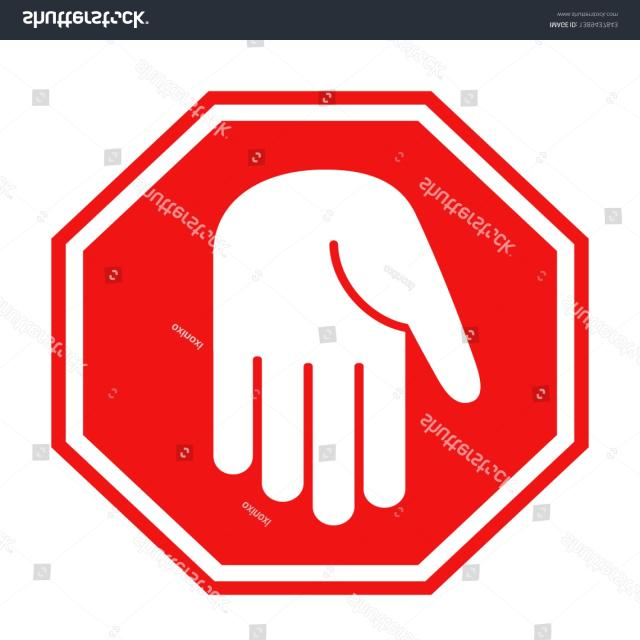Traffic sign: (40, 84, 605, 609)
